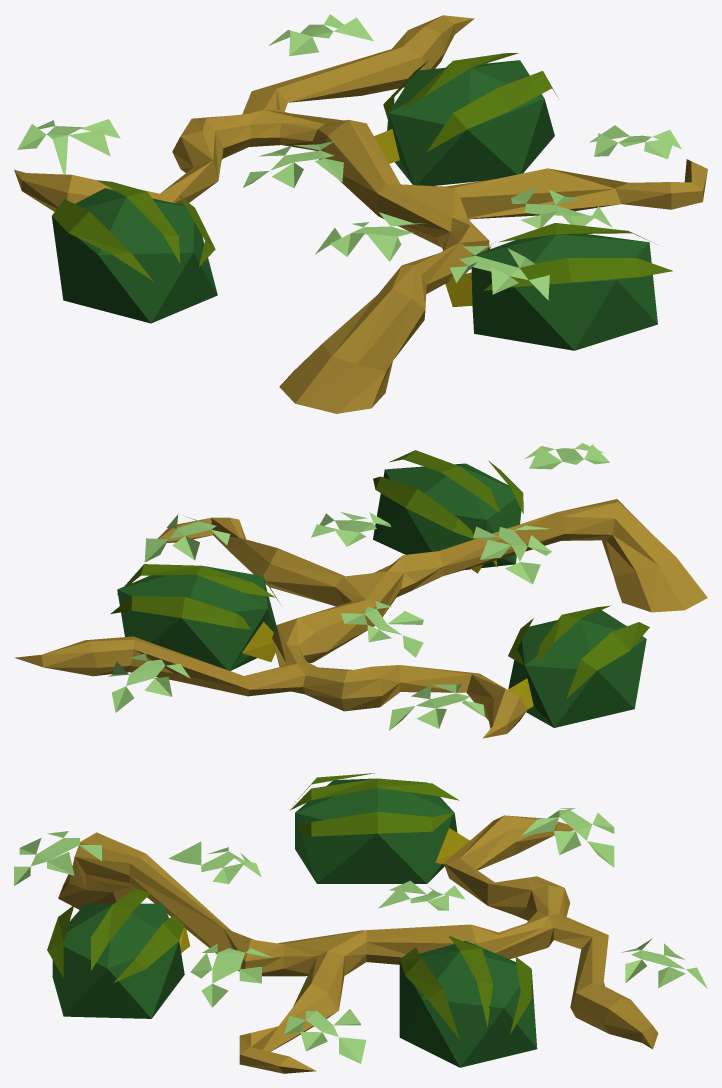
Rendered from allotment.gltf.
The picture shows the model from 3 angles, top to bottom: view 1: azimuth 30°, elevation 25°; view 2: azimuth 150°, elevation 25°; view 3: azimuth 270°, elevation 25°; orthographic projection. The views are drawn at different scales.
Size of the model in its own units: 112 by 23 by 126.
1 material, 1 textured.
